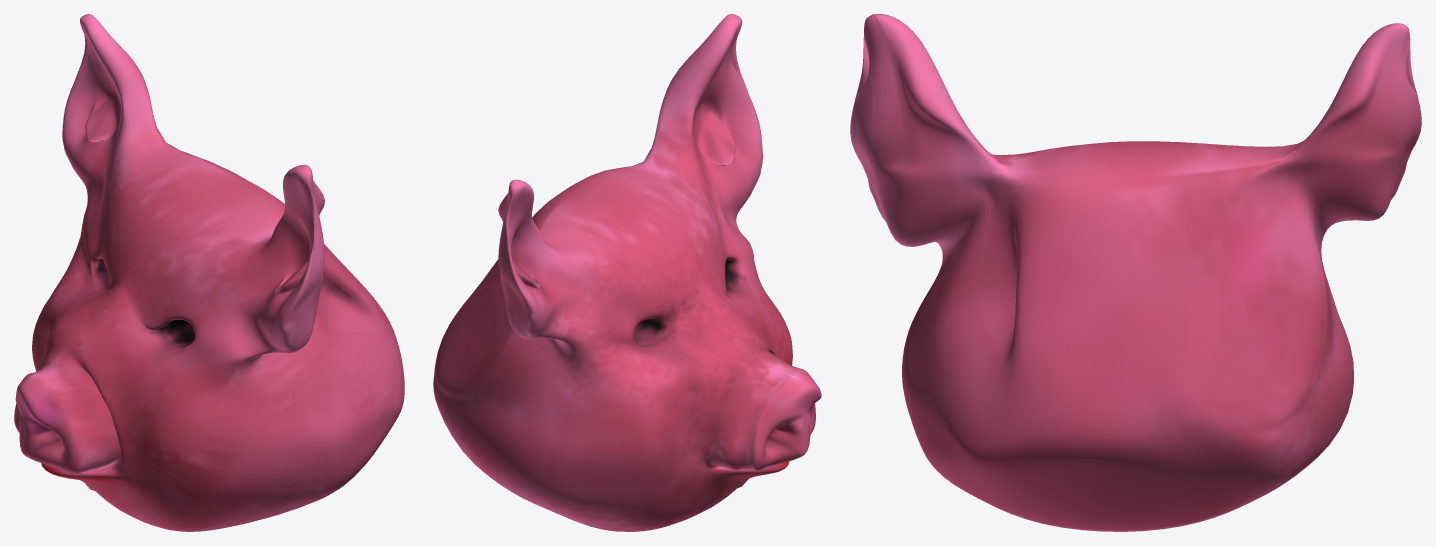
File: pig head.fbx
3 views of the same model, side by side, from view 1: azimuth 30°, elevation 25°; view 2: azimuth 150°, elevation 25°; view 3: azimuth 270°, elevation 25° (orthographic). The views are drawn at different scales.
Visible parts, largest first — view 1: pig head; view 2: pig head; view 3: pig head.
Part boxes in pixels (x1,y1,x2,y2): pig head: (14, 14, 404, 531); pig head: (433, 14, 821, 531); pig head: (850, 14, 1421, 531).
Bounding box in the file's own units: 293 × 334 × 349.
